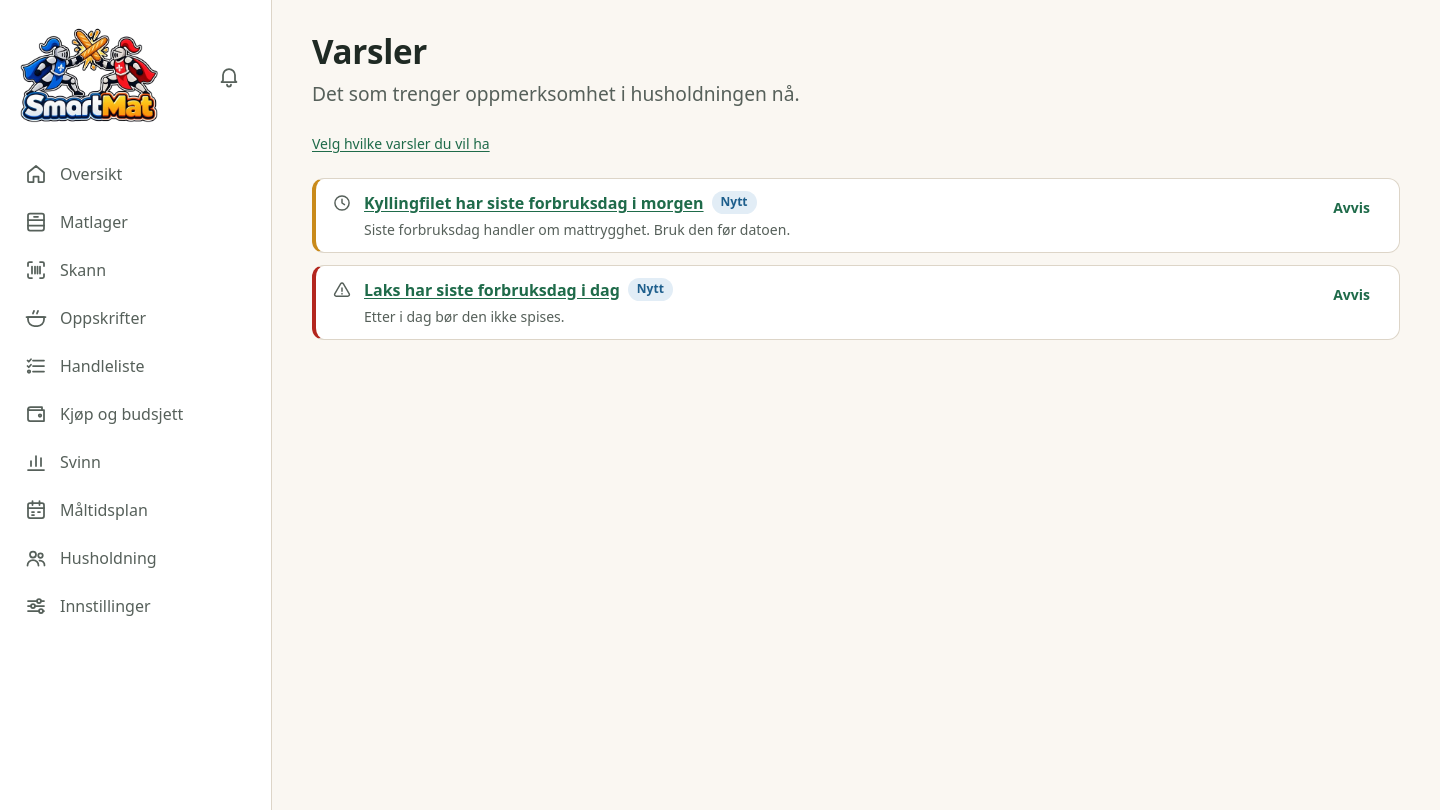
it: FR-NOTIF-004 seen and dismissed › "Avvis" removes it, says so, and keeps the keyboard in the list
What coordinates should you click on to do the following:
click the button with aria-label "Avvis varselet: Kyllingfilet har siste forbruksdag i morgen"
I would click on:
 (1352, 209)
Its box is x1=1320 y1=191 x2=1383 y2=227.
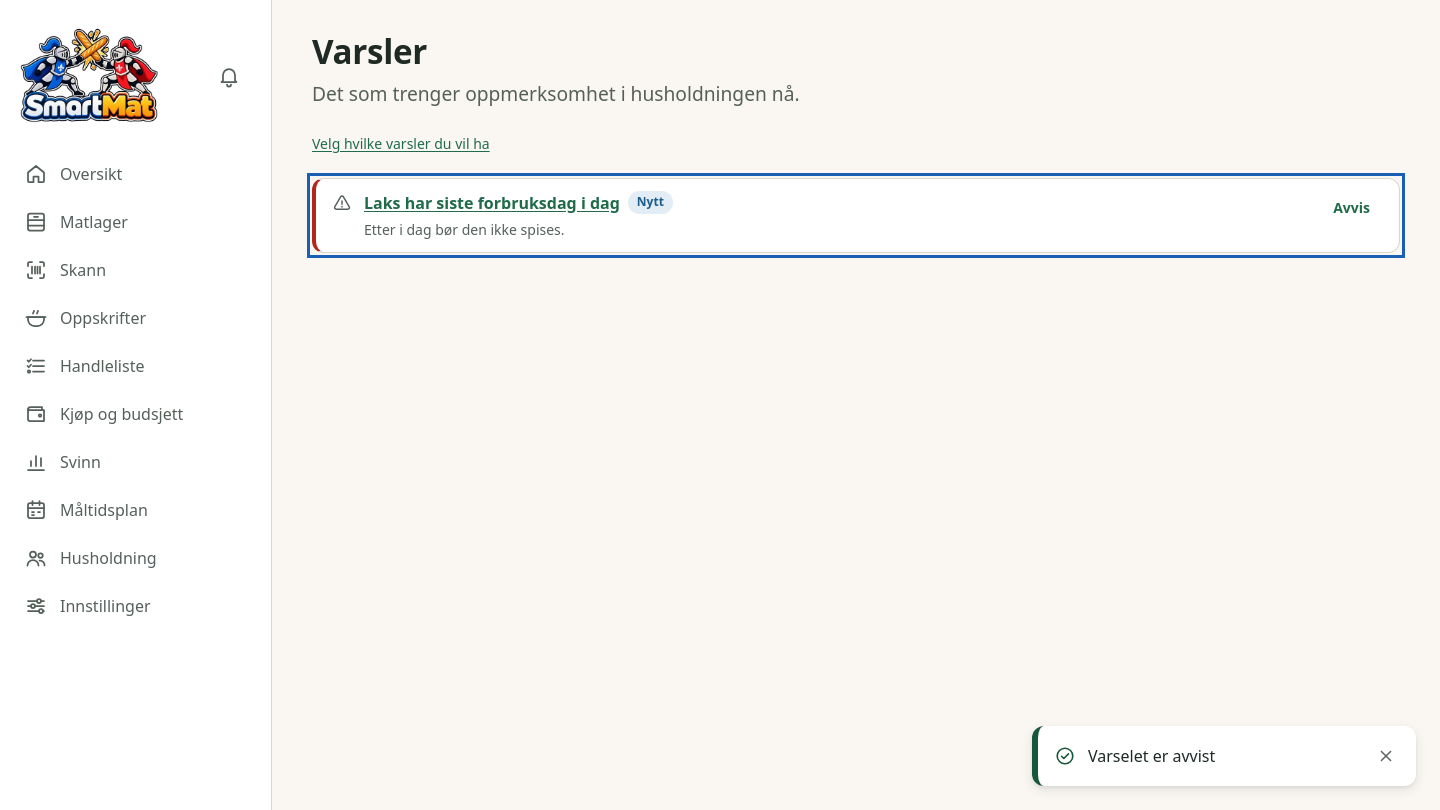
Check: the text "Varselet er avvist" is shown, box x1=1087 y1=744 x2=1215 y2=767
Check: the link "Kyllingfilet" is gone
